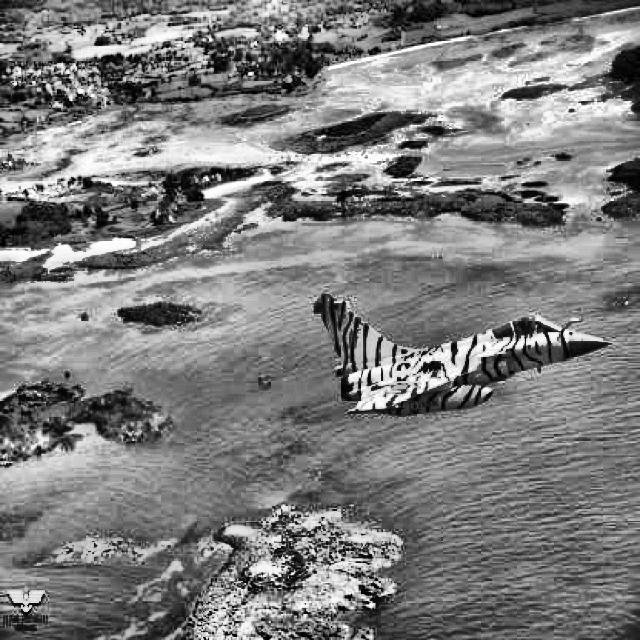Rafale: (313, 292, 612, 417)
